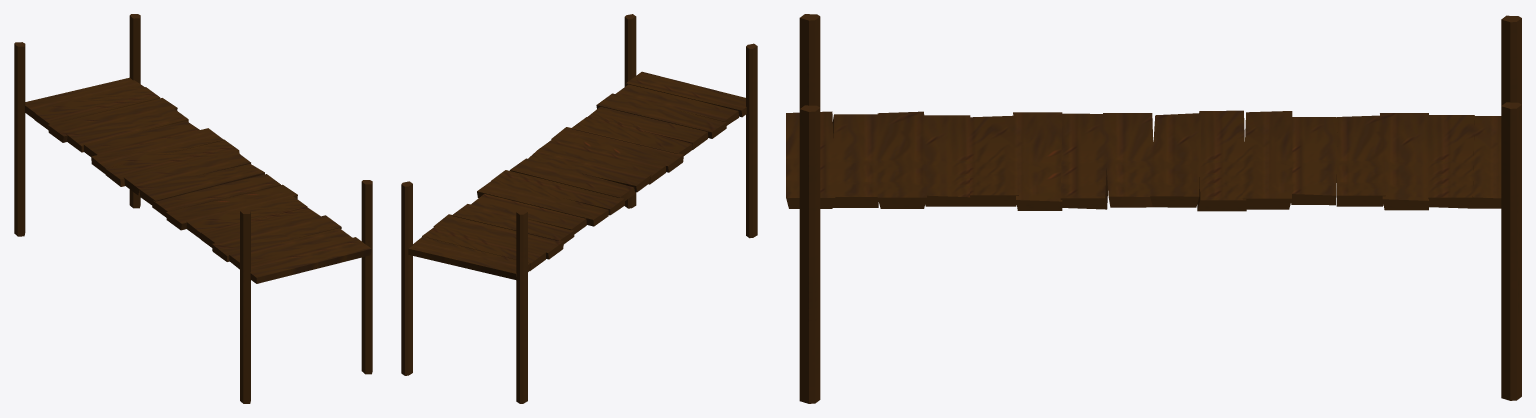
The model's file is Dock.fbx.
3 views of the same model, side by side, from view 1: azimuth 30°, elevation 25°; view 2: azimuth 150°, elevation 25°; view 3: azimuth 270°, elevation 25° (orthographic). The views are drawn at different scales.
Visible parts, largest first — view 1: Dock; view 2: Dock; view 3: Dock.
Boxes of the visible parts, x1,y1,x2,y2 form: Dock: [14, 14, 372, 403]; Dock: [401, 14, 757, 403]; Dock: [786, 14, 1521, 403].
Bounding box in the file's own units: 18.62 × 25.88 × 59.1.
1 material, 1 textured.
